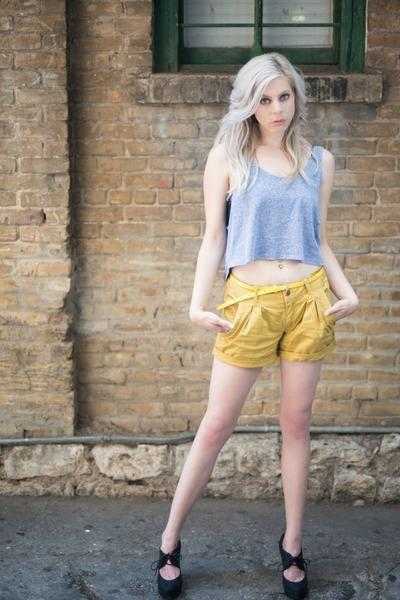shirt: (228, 146, 333, 265)
shoe: (157, 540, 308, 599)
shorts: (212, 267, 338, 367)
